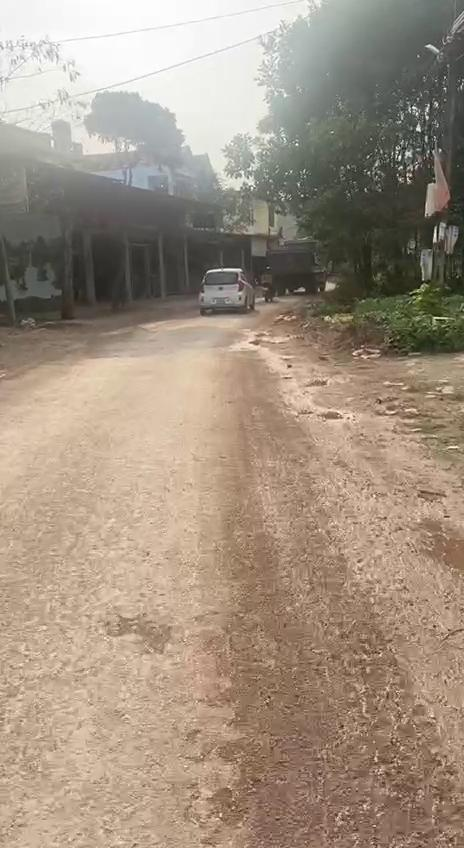pothole: (431, 530, 464, 579), (314, 405, 350, 424)
